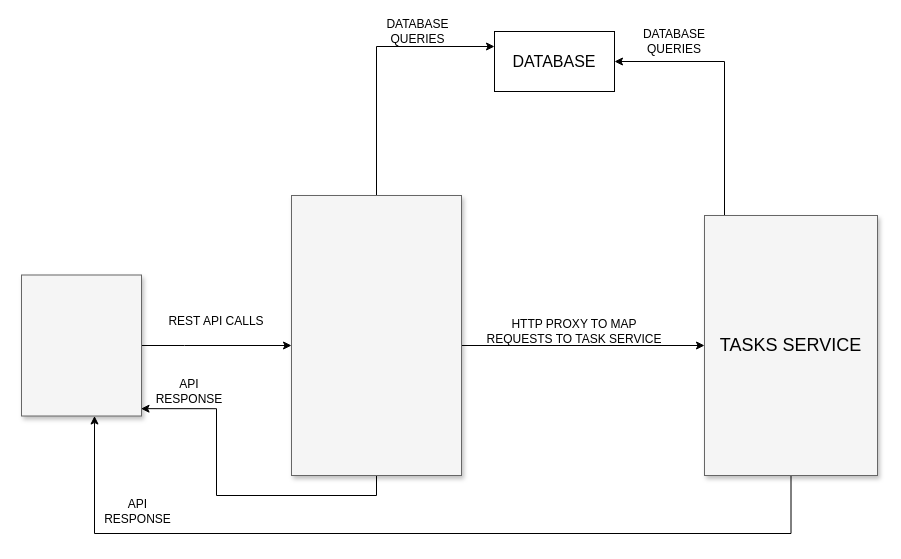
Some shapes in this 901 by 559 pixel diagram are drawn without their labels. Here are the shapes that lost their labels. From the top down, the centre of each, then its label:
At (82,346): "CLIENT APP".
At (377,336): "USERS SERVICE".
